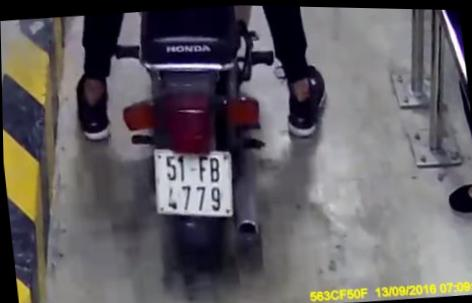LP: (149, 140, 238, 223)
